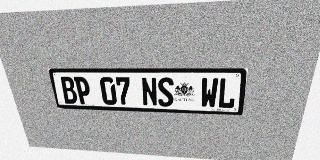0: (99, 77, 117, 105)
7: (114, 77, 132, 106)
B: (59, 77, 78, 104)
L: (217, 78, 237, 109)
N: (141, 77, 158, 106)
P: (73, 77, 92, 104)
S: (157, 77, 174, 107)
W: (200, 78, 219, 108)
